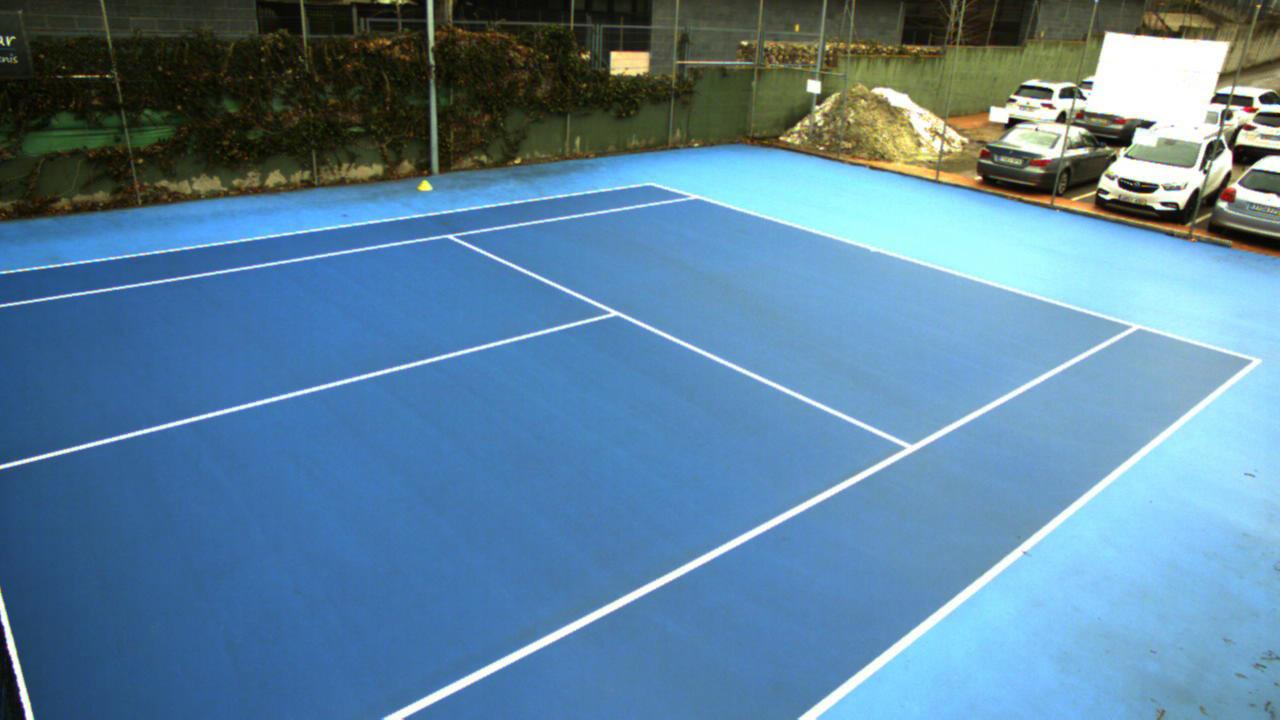cancha_tenis: (0, 193, 1136, 720)
point_f1: (684, 184, 707, 204)
point_f2: (1119, 316, 1148, 340)
point_fc1: (866, 241, 882, 257)
point_i1: (437, 223, 464, 248)
point_i2: (890, 433, 925, 465)
point_ic1: (594, 300, 631, 326)
